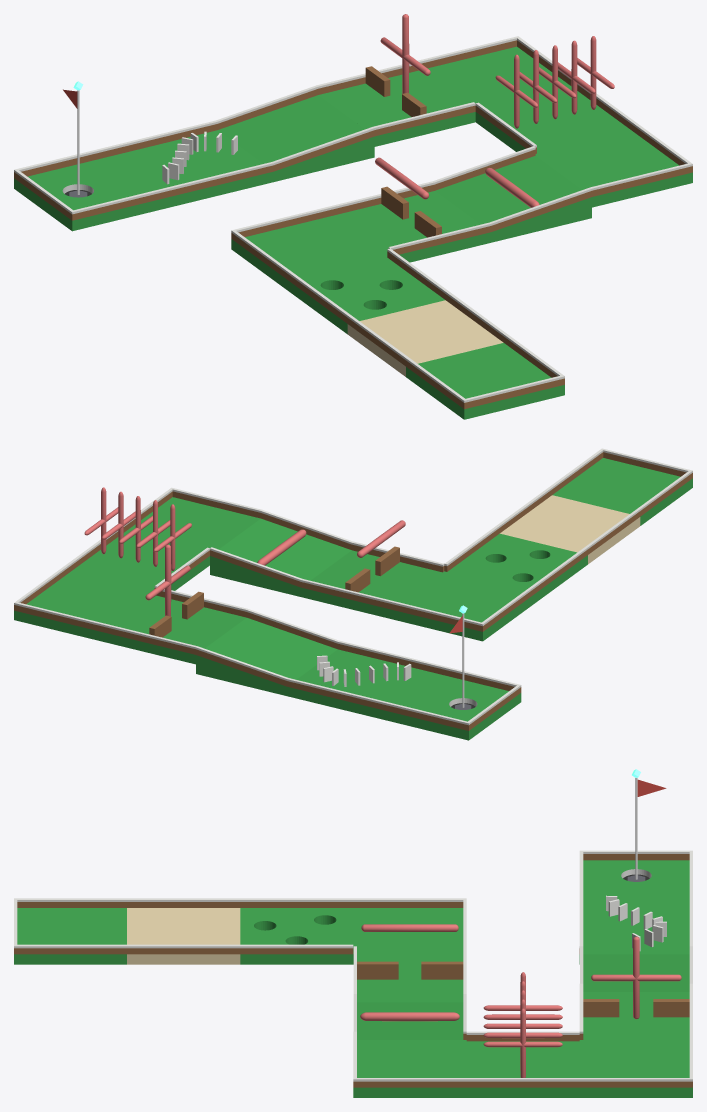
Rendered from level_04.glb.
3 renders of one model, top to bottom at view 1: azimuth 30°, elevation 25°; view 2: azimuth 150°, elevation 25°; view 3: azimuth 270°, elevation 25°, orthographic. The views are drawn at different scales.
Parts seen in each view (by area): view 1: Corner_Floor (×3), Ramp_Floor, RampSpinner_Floor, Start_Floor, Finish_Floor, Holes_Floor, Sand_Floor, Windmill_Floor, PaddleWheels_Floor, Dominoes_Floor, BarrierGate_Floor, Corner_Rails (×3) (+22 smaller); view 2: Corner_Floor (×3), Ramp_Floor, RampSpinner_Floor, Finish_Floor, Holes_Floor, Sand_Floor, Start_Floor, Windmill_Floor, BarrierGate_Floor, Dominoes_Floor, PaddleWheels_Floor, Corner_Rails (×3) (+22 smaller); view 3: Corner_Floor (×3), Holes_Floor, Sand_Floor, Start_Floor, PaddleWheels_Floor, Finish_Floor, Dominoes_Floor, BarrierGate_Floor, Windmill_Floor, Ramp_Floor, RampSpinner_Floor, Corner_Rails (×3) (+18 smaller).
Boxes of the visible parts, <box> form: Corner_Floor (×3): <box>231,46,692,291</box>; Ramp_Floor: <box>217,95,374,181</box>; RampSpinner_Floor: <box>435,156,591,242</box>; Start_Floor: <box>406,343,564,419</box>; Finish_Floor: <box>14,155,172,231</box>; Holes_Floor: <box>289,257,445,334</box>; Sand_Floor: <box>347,300,503,376</box>; Windmill_Floor: <box>318,70,475,146</box>; PaddleWheels_Floor: <box>475,88,631,153</box>; Dominoes_Floor: <box>117,130,273,206</box>; BarrierGate_Floor: <box>334,191,491,262</box>; Corner_Rails (×3): <box>231,40,692,280</box>; Corner_Floor (×3): <box>14,497,535,642</box>; Ramp_Floor: <box>196,618,337,695</box>; RampSpinner_Floor: <box>210,518,351,596</box>; Finish_Floor: <box>378,671,521,740</box>; Holes_Floor: <box>447,533,587,602</box>; Sand_Floor: <box>500,495,640,564</box>; Start_Floor: <box>552,458,692,525</box>; Windmill_Floor: <box>105,595,246,664</box>; BarrierGate_Floor: <box>301,550,442,619</box>; Dominoes_Floor: <box>287,649,428,718</box>; PaddleWheels_Floor: <box>69,535,209,592</box>; Corner_Rails (×3): <box>14,491,535,632</box>; Corner_Floor (×3): <box>353,908,692,1097</box>; Holes_Floor: <box>240,908,353,964</box>; Sand_Floor: <box>127,908,240,964</box>; Start_Floor: <box>14,908,126,964</box>; PaddleWheels_Floor: <box>466,1041,579,1097</box>; Finish_Floor: <box>583,860,689,906</box>; Dominoes_Floor: <box>579,906,689,964</box>; BarrierGate_Floor: <box>357,954,463,1002</box>; Windmill_Floor: <box>583,992,689,1039</box>; Ramp_Floor: <box>583,954,689,991</box>; RampSpinner_Floor: <box>357,1002,463,1039</box>; Corner_Rails (×3): <box>353,902,692,1087</box>.
Size of what is drawn, in the model's own units: 50 by 11.38 by 60.
